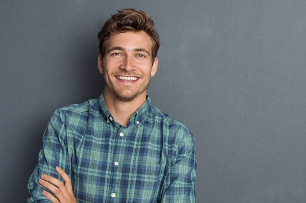male: (96, 16, 158, 101)
